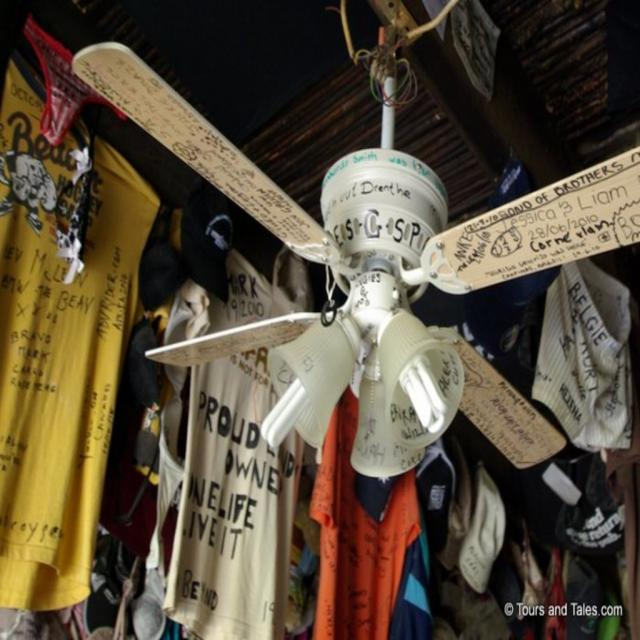Bulb: (71, 70, 639, 485)
